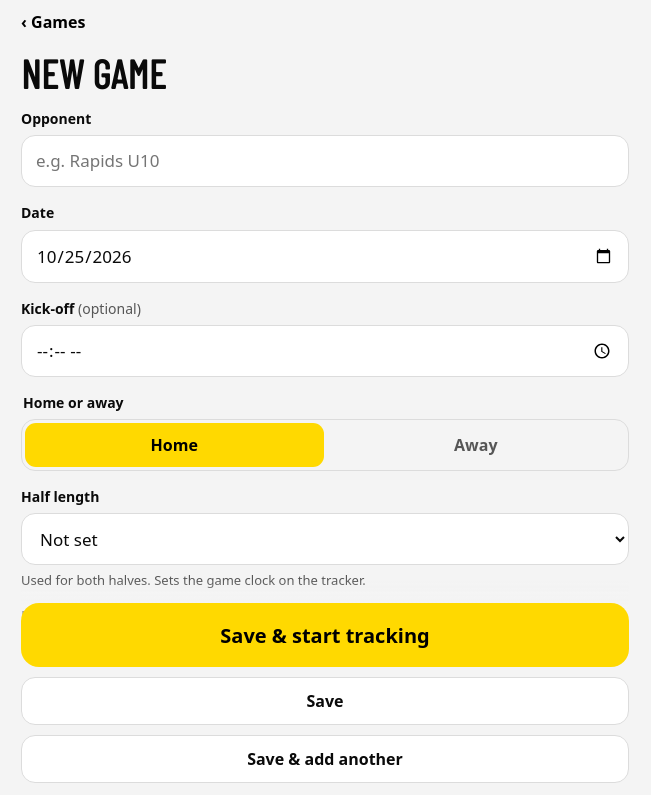
Scenario: game form validation › blocks save without an opponent
Click the button "Save": (325, 701) [21, 677, 629, 725]
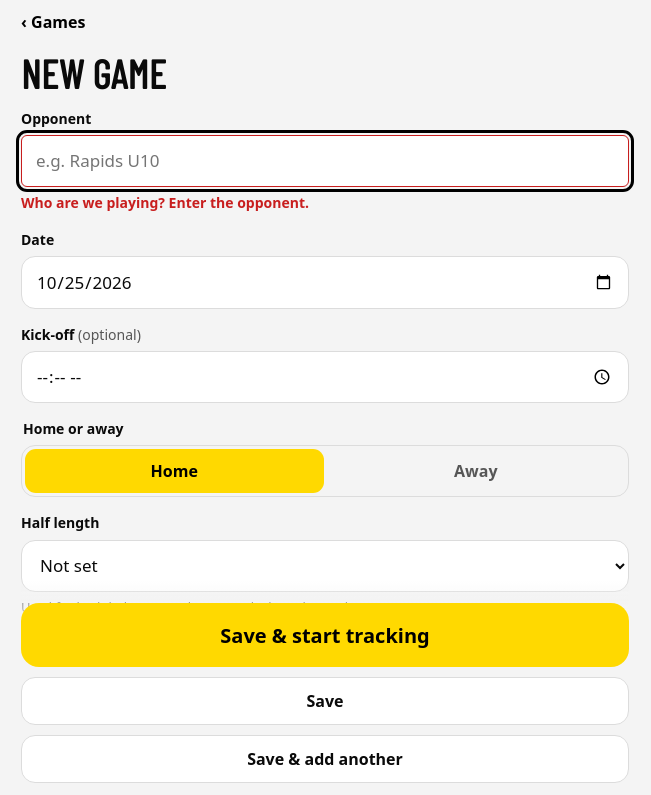
Check: the message "Who are we playing? Enter the opponent." is shown, box [21, 193, 309, 212]
